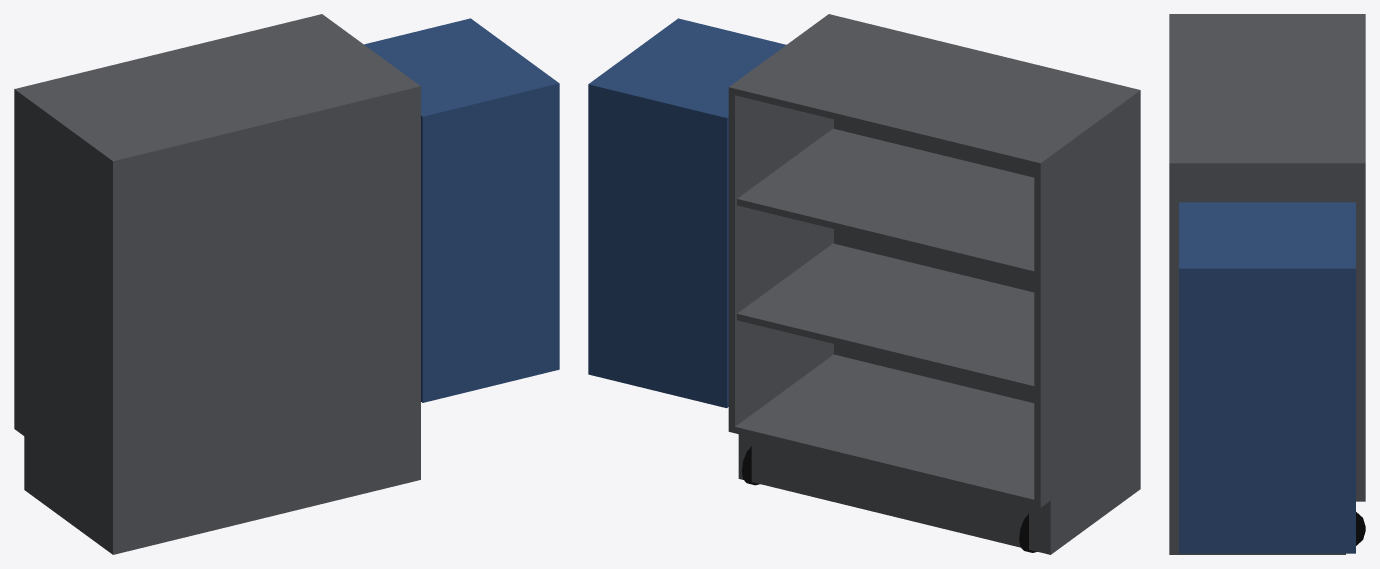
The model's file is hospitality.room.housekeeping_cart.glb.
3 renders of one model, left to right at view 1: azimuth 30°, elevation 25°; view 2: azimuth 150°, elevation 25°; view 3: azimuth 270°, elevation 25°, orthographic.
Visible parts, largest first — view 1: main__plastic_grey, main__fabric_blue; view 2: main__plastic_grey, main__fabric_blue; view 3: main__fabric_blue, main__plastic_grey.
Part boxes in pixels (x1,y1,x2,y2): main__plastic_grey: (14, 14, 420, 554); main__fabric_blue: (364, 18, 559, 402); main__plastic_grey: (728, 14, 1140, 554); main__fabric_blue: (588, 18, 786, 408); main__fabric_blue: (1179, 202, 1355, 553); main__plastic_grey: (1169, 14, 1365, 554).
Bounding box in the file's own units: 1.32 × 1.1 × 0.5.
